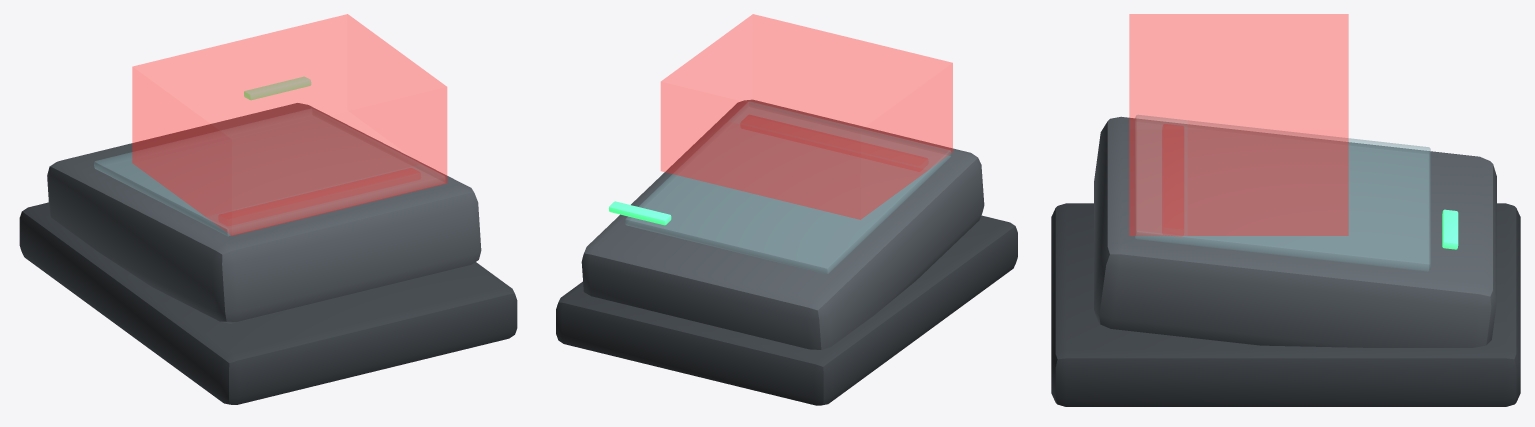
The model's file is checkout_scanner.glb.
3 views of the same model, side by side, from view 1: azimuth 30°, elevation 25°; view 2: azimuth 150°, elevation 25°; view 3: azimuth 270°, elevation 25° (orthographic). The views are drawn at different scales.
Parts seen in each view (by area): view 1: ScannerDeck, ScannerBeam, ScannerBase, ScannerGlass, ScannerBeamLens, ScannerStatusBar; view 2: ScannerDeck, ScannerBeam, ScannerGlass, ScannerBase, ScannerBeamLens, ScannerStatusBar; view 3: ScannerDeck, ScannerBeam, ScannerBase, ScannerGlass, ScannerBeamLens, ScannerStatusBar.
Part boxes in pixels (x1,y1,x2,y2): ScannerDeck: (47, 103, 481, 323); ScannerBeam: (132, 14, 446, 235); ScannerBase: (19, 202, 517, 404); ScannerGlass: (94, 108, 445, 236); ScannerBeamLens: (220, 168, 420, 218); ScannerStatusBar: (244, 76, 311, 100); ScannerDeck: (581, 99, 984, 349); ScannerBeam: (661, 14, 952, 219); ScannerGlass: (625, 102, 951, 273); ScannerBase: (556, 215, 1017, 405); ScannerBeamLens: (741, 115, 927, 165); ScannerStatusBar: (609, 201, 671, 225); ScannerDeck: (1094, 116, 1496, 347); ScannerBeam: (1129, 14, 1348, 235); ScannerBase: (1051, 203, 1520, 406); ScannerGlass: (1135, 115, 1430, 271); ScannerBeamLens: (1163, 124, 1183, 236); ScannerStatusBar: (1442, 209, 1458, 249).
Bounding box in the file's own units: 0.24 × 0.1845 × 0.3.
